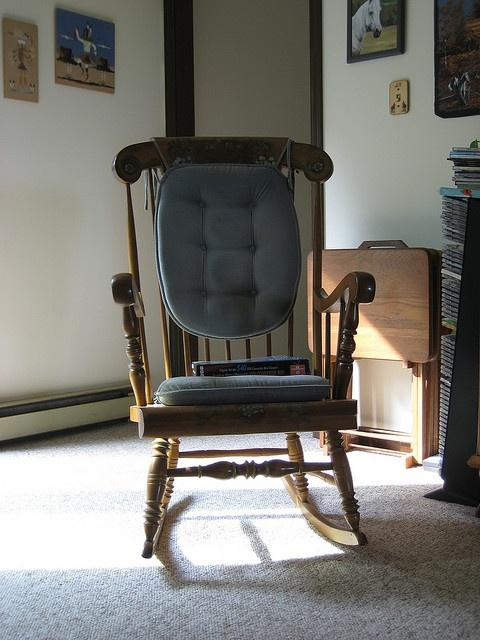Kursi: (109, 135, 375, 559)
